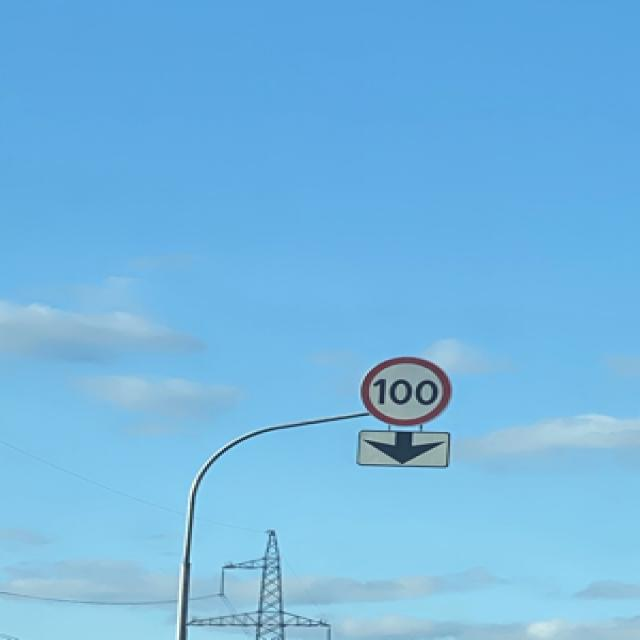speedlimit: (354, 354, 448, 424)
